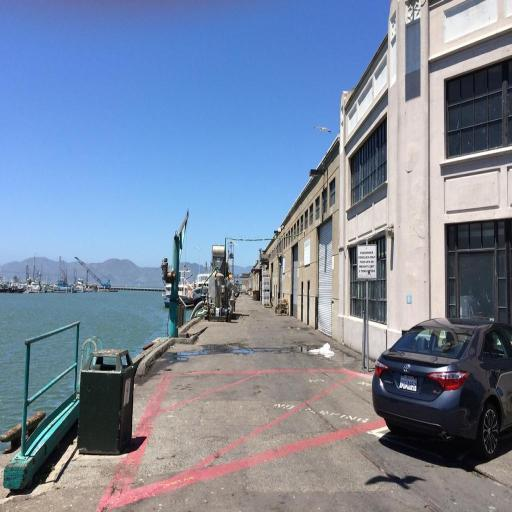trash-can: (70, 336, 142, 460)
